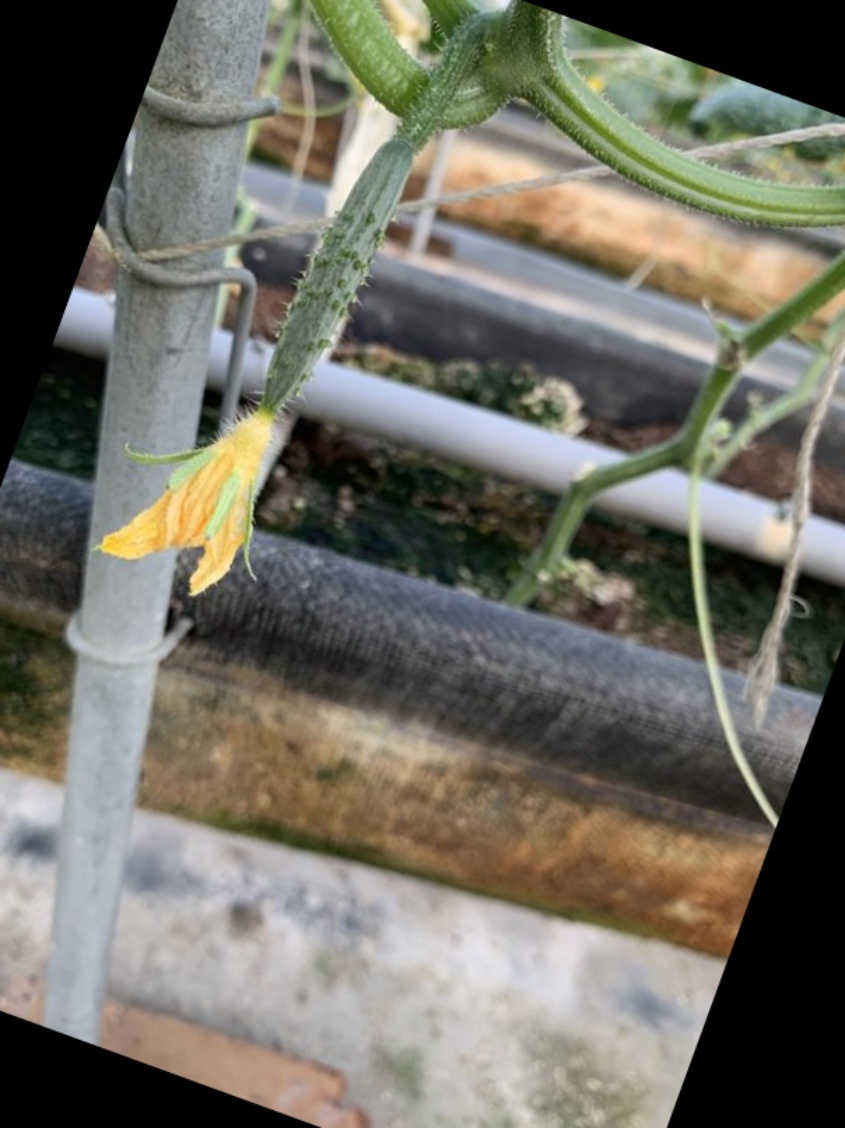bear: (104, 95, 438, 622)
